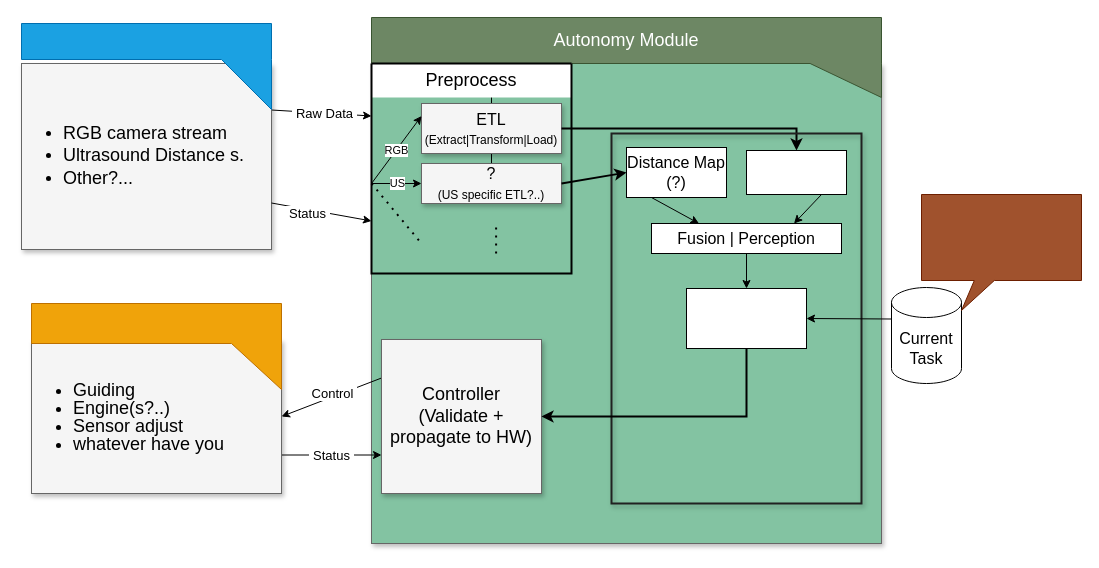
Image size: 1099x568. Some labels were removed from this diagram. The centre of each missing label's shape, as x and y in pixels:
"Actuators" belongs at [156,346].
"Obstacle Detection" belongs at [796,172].
"Parking Slalom Navigate etc (future tasks)" belongs at [1001,252].
"Planning" belongs at [746,318].
"Sensors" belongs at [146,66].
